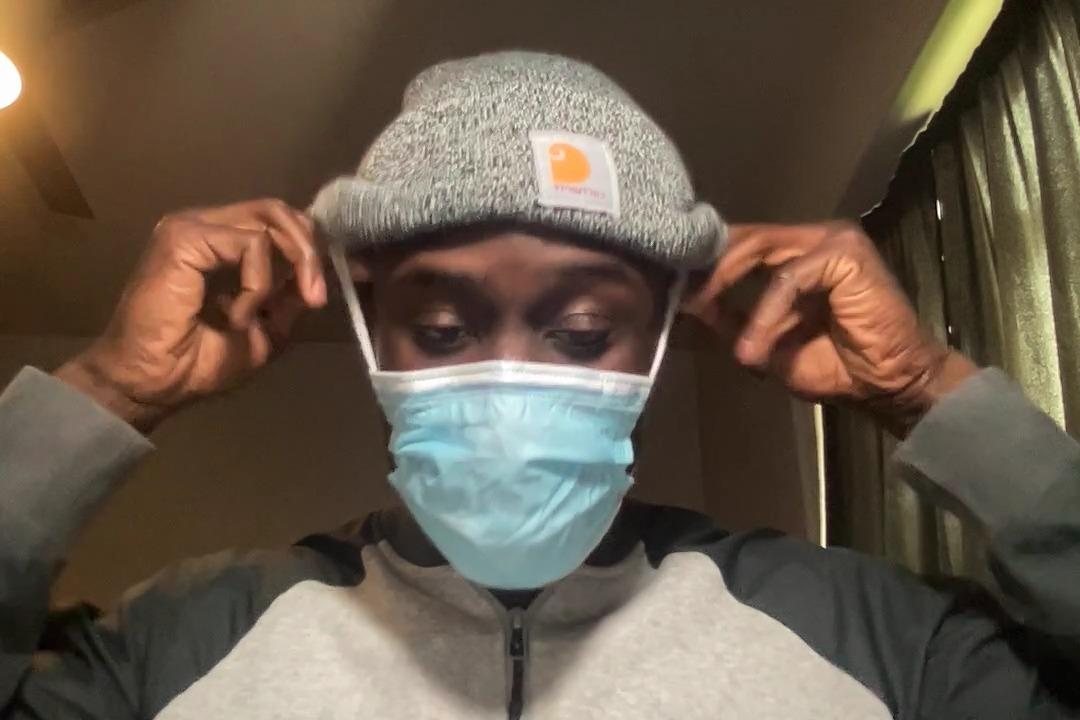face: (339, 217, 702, 598)
